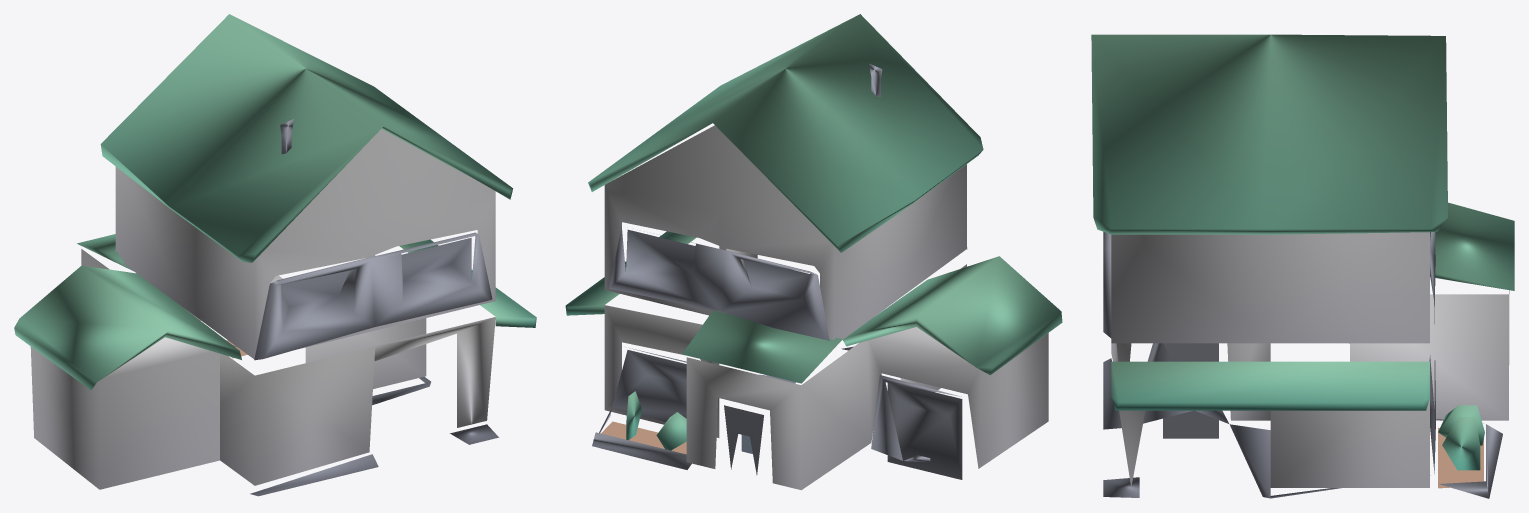
The picture shows the model from 3 angles, left to right: view 1: azimuth 30°, elevation 25°; view 2: azimuth 150°, elevation 25°; view 3: azimuth 270°, elevation 25°; orthographic projection. The views are drawn at different scales.
Size of the model in its own units: 11.14 by 8.95 by 8.49.
